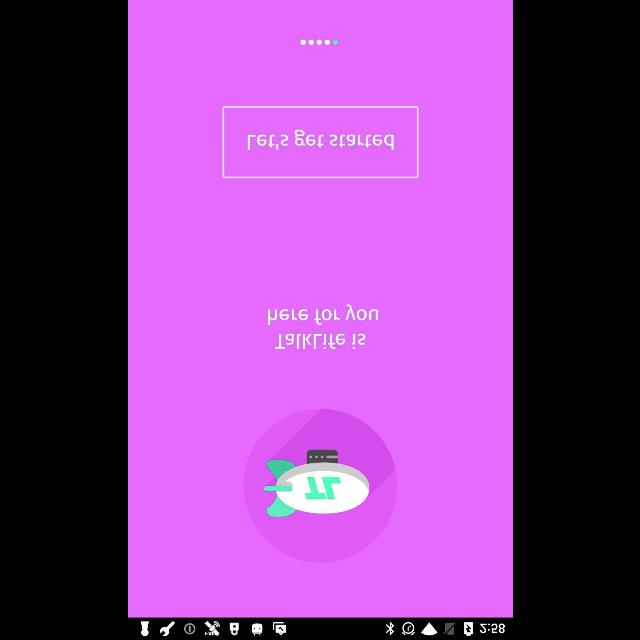image: (243, 408, 397, 564)
pageindicator: (300, 39, 338, 45)
text: (267, 304, 377, 350)
textbutton: (222, 105, 418, 178)
uppertaskbar: (128, 617, 512, 639)
